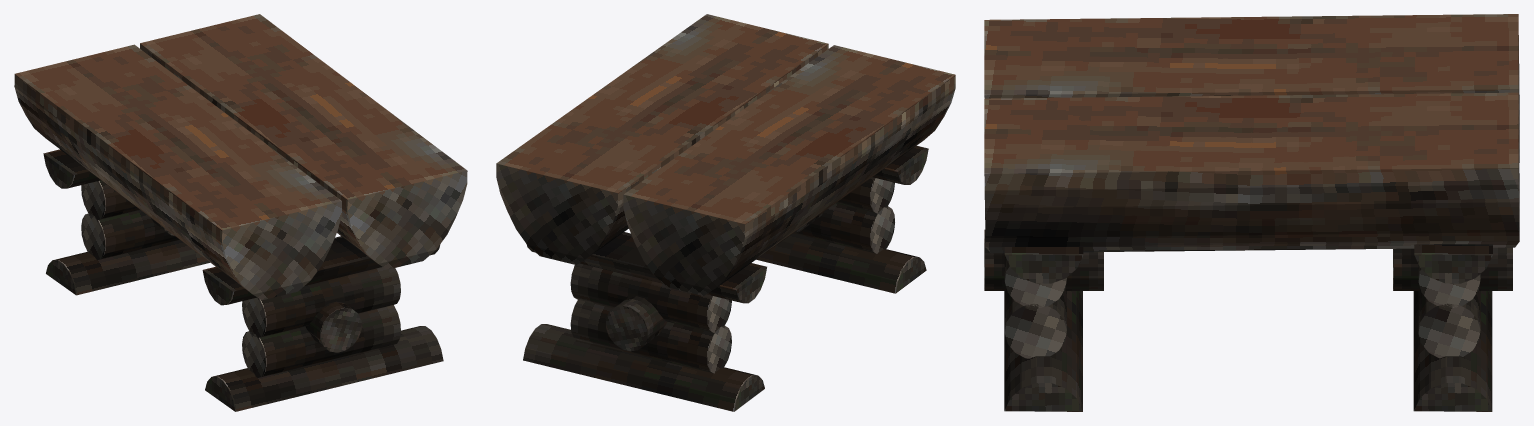
Rendered from massive_tabble_01.glb.
3 views of the same model, side by side, from view 1: azimuth 30°, elevation 25°; view 2: azimuth 150°, elevation 25°; view 3: azimuth 270°, elevation 25° (orthographic). The views are drawn at different scales.
Parts seen in each view (by area): view 1: massive_tabble_01; view 2: massive_tabble_01; view 3: massive_tabble_01.
Part boxes in pixels (x1,y1,x2,y2): massive_tabble_01: (14, 14, 467, 411); massive_tabble_01: (496, 14, 955, 411); massive_tabble_01: (984, 14, 1519, 411).
Bounding box in the file's own units: 2.99 × 2.3 × 4.39.
1 material, 1 textured.
